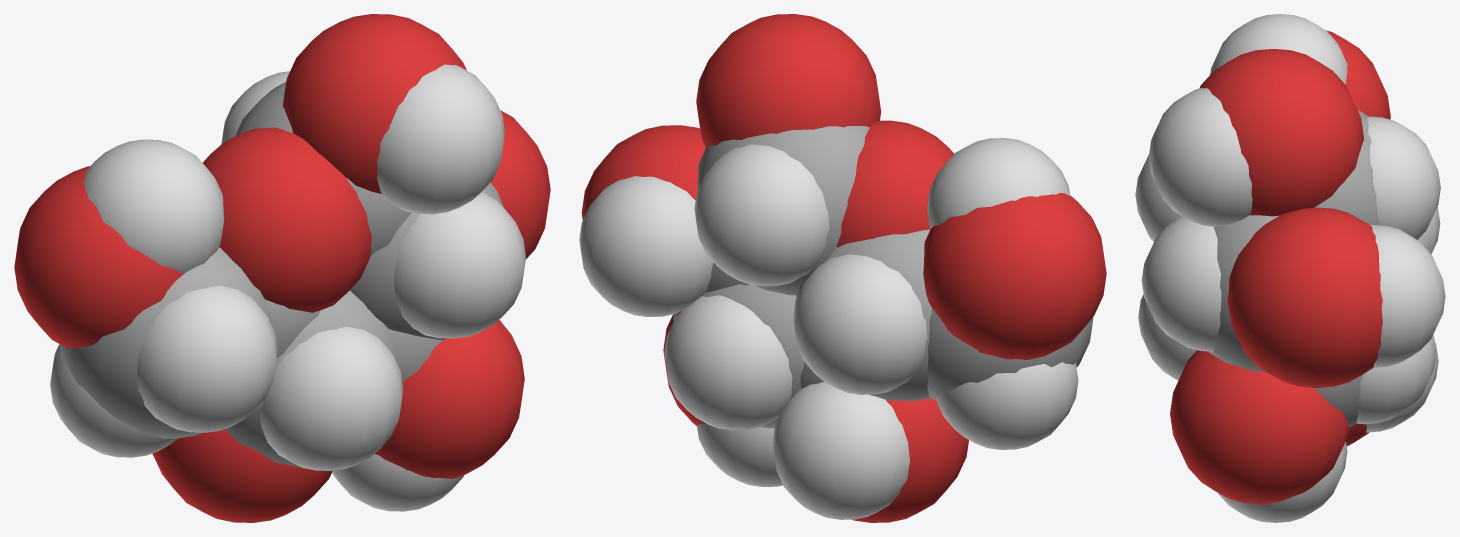
File: glucose-cpk.glb
3 renders of one model, left to right at view 1: azimuth 30°, elevation 25°; view 2: azimuth 150°, elevation 25°; view 3: azimuth 270°, elevation 25°, orthographic. The views are drawn at different scales.
Visible parts, largest first — view 1: glucose-cpk; view 2: glucose-cpk; view 3: glucose-cpk.
Part boxes in pixels (x1,y1,x2,y2): glucose-cpk: (14, 14, 550, 522); glucose-cpk: (579, 14, 1106, 522); glucose-cpk: (1135, 14, 1445, 522).
Size of the model in its own units: 9.28 by 8.31 by 5.19.
